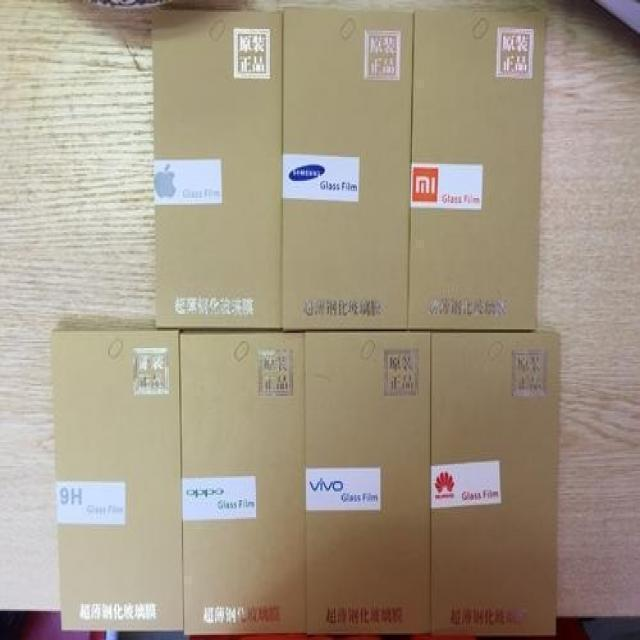box: (408, 10, 549, 331), (150, 8, 285, 329), (282, 9, 415, 329), (49, 329, 182, 632), (304, 331, 432, 633), (431, 333, 558, 637), (181, 329, 305, 634)
